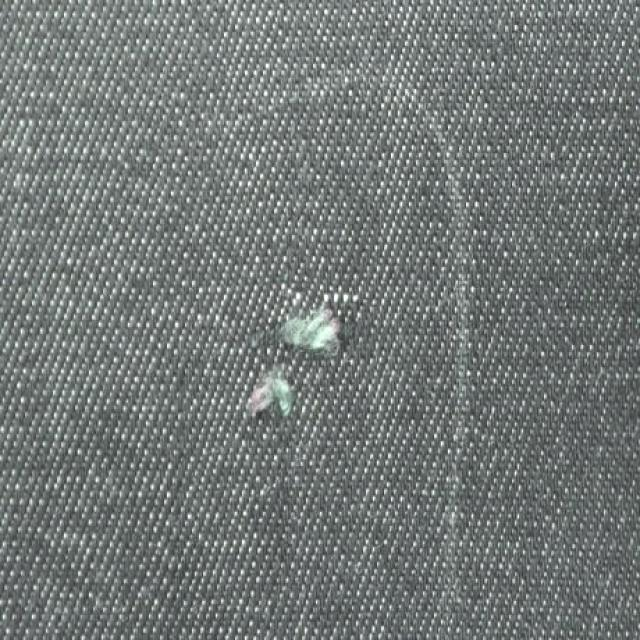Thread_other: (200, 244, 376, 506)
